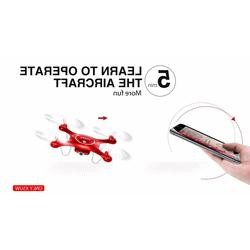drone: (32, 111, 135, 168)
